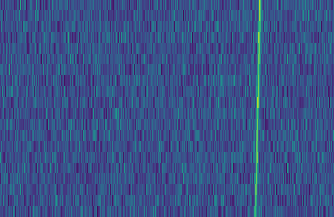signal: (252, 0, 266, 217)
